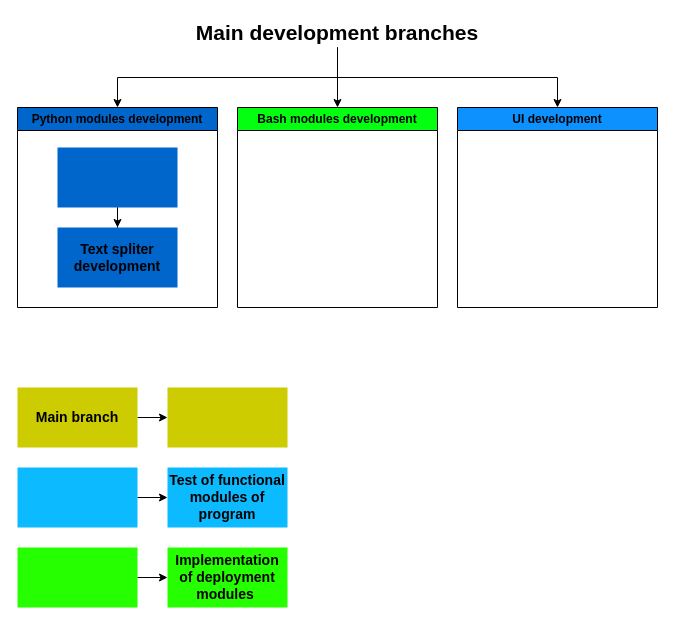
The diagram is 675 pixels wide and 624 high, and some of its shapes have lost their labels. Here are the shapes that lost their labels. From the top down, the centre of each, then its label:
At (117,177): "Text wrapper development".
At (227,417): "Documentation of project".
At (77,497): "Testing branch".
At (77,577): "Deploy branch".
